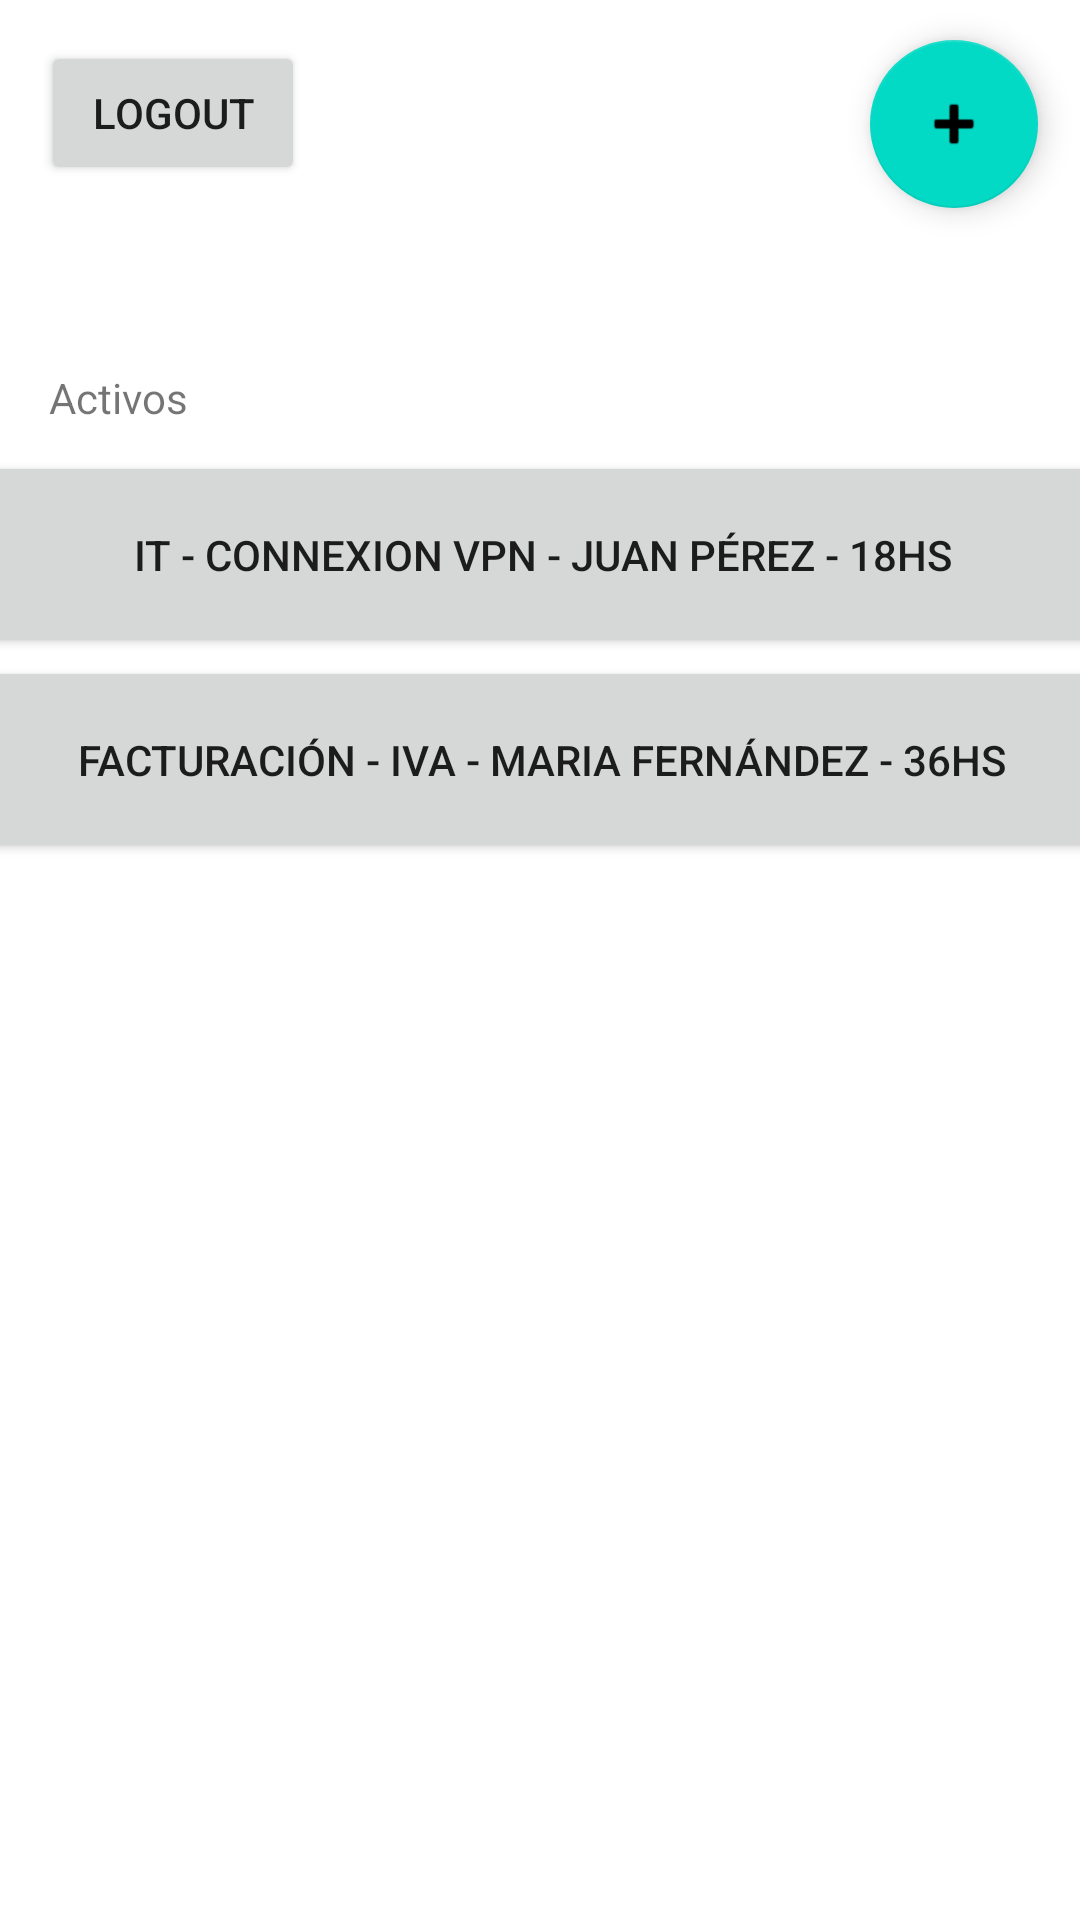

Named icons in this screenshot (1080 × 1920) and their centers, (x,y):
add: (954,124)
